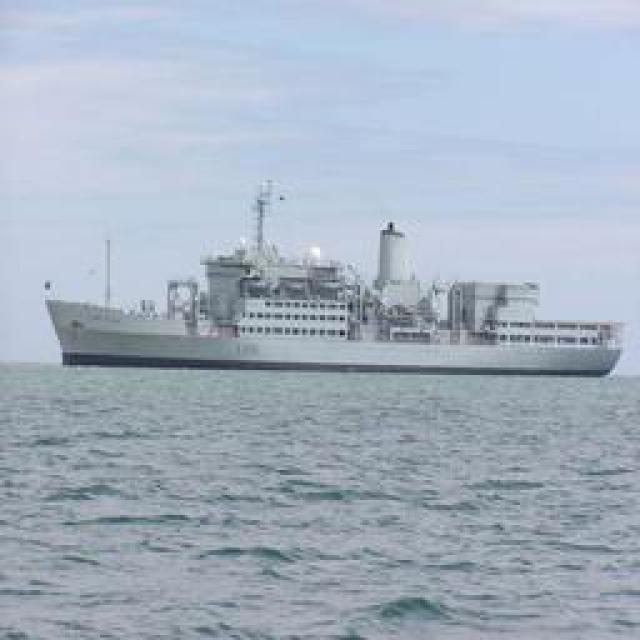Ship: (35, 196, 625, 376)
